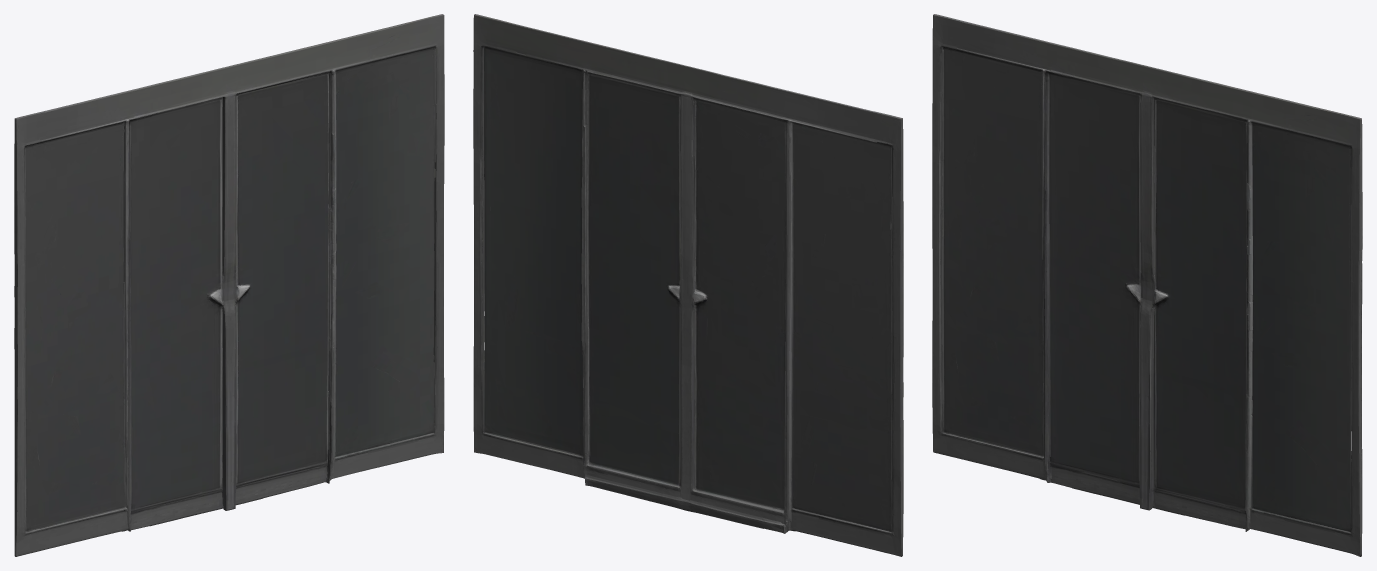
File: 0e67d007-c945-4452-9069-dcf48a2dfb78.glb
3 renders of one model, left to right at view 1: azimuth 30°, elevation 25°; view 2: azimuth 150°, elevation 25°; view 3: azimuth 330°, elevation 25°, orthographic.
Parts seen in each view (by area): view 1: world; view 2: world; view 3: world.
Part boxes in pixels (bbox=[...]): world: bbox=[14, 14, 444, 556]; world: bbox=[473, 14, 903, 556]; world: bbox=[932, 14, 1362, 556].
Bounding box in the file's own units: 1 × 0.9876 × 0.0269.
Materials: 1 (1 with a texture image).
